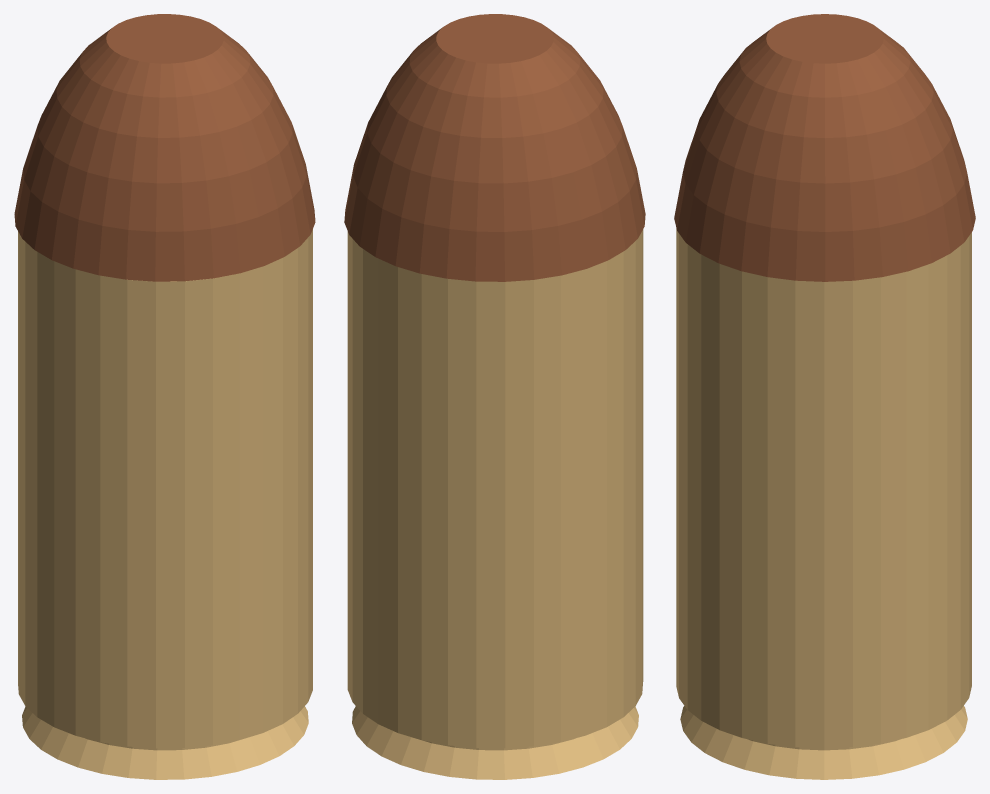
The model's file is revolver_ammo.fbx.
3 views of the same model, side by side, from view 1: azimuth 30°, elevation 25°; view 2: azimuth 150°, elevation 25°; view 3: azimuth 270°, elevation 25° (orthographic).
Parts seen in each view (by area): view 1: revo_ammo.001; view 2: revo_ammo.001; view 3: revo_ammo.001.
Boxes of the visible parts, bbox=[...] form: revo_ammo.001: bbox=[14, 14, 315, 779]; revo_ammo.001: bbox=[344, 14, 645, 779]; revo_ammo.001: bbox=[674, 14, 975, 779].
Size of the model in its own units: 2.12 by 2.12 by 5.31.
